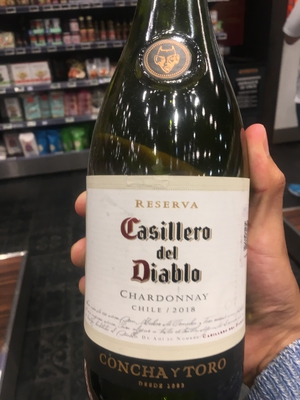casillero del diablo chardonnay: (73, 13, 263, 398)
